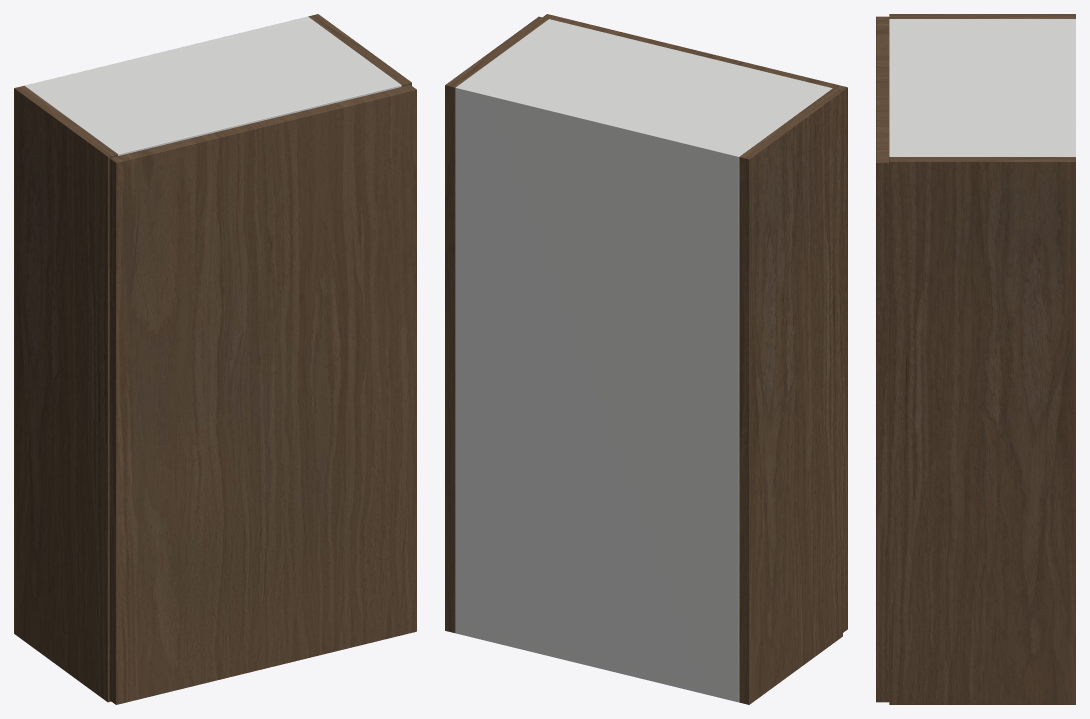
Rendered from oppein-pb-mso-w2136.glb.
3 views of the same model, side by side, from view 1: azimuth 30°, elevation 25°; view 2: azimuth 150°, elevation 25°; view 3: azimuth 270°, elevation 25° (orthographic).
Parts seen in each view (by area): view 1: Door, Cabinet side, Cabinet top, Cabinet back, Cabinet side.001; view 2: Cabinet back, Cabinet side, Cabinet top, Cabinet side.001, Door, Cabinet bottom; view 3: Cabinet side.001, Cabinet top, Door, Cabinet back, Cabinet side.
Part boxes in pixels (x1=…): Door: x1=109, y1=85, x2=416, y2=704; Cabinet side: x1=14, y1=86, x2=117, y2=702; Cabinet top: x1=25, y1=19, x2=401, y2=155; Cabinet back: x1=25, y1=16, x2=310, y2=87; Cabinet side.001: x1=308, y1=14, x2=411, y2=86; Cabinet back: x1=455, y1=85, x2=742, y2=702; Cabinet side: x1=739, y1=88, x2=842, y2=704; Cabinet top: x1=455, y1=19, x2=832, y2=166; Cabinet side.001: x1=445, y1=16, x2=548, y2=632; Door: x1=542, y1=14, x2=847, y2=632; Cabinet bottom: x1=455, y1=623, x2=739, y2=701; Cabinet side.001: x1=889, y1=157, x2=1075, y2=704; Cabinet top: x1=889, y1=19, x2=1075, y2=156; Door: x1=876, y1=16, x2=889, y2=702; Cabinet back: x1=1068, y1=19, x2=1075, y2=156; Cabinet side: x1=889, y1=14, x2=1075, y2=18.
Size of the model in its own units: 0.5334 by 0.9144 by 0.3048.
2 materials, 1 textured.
